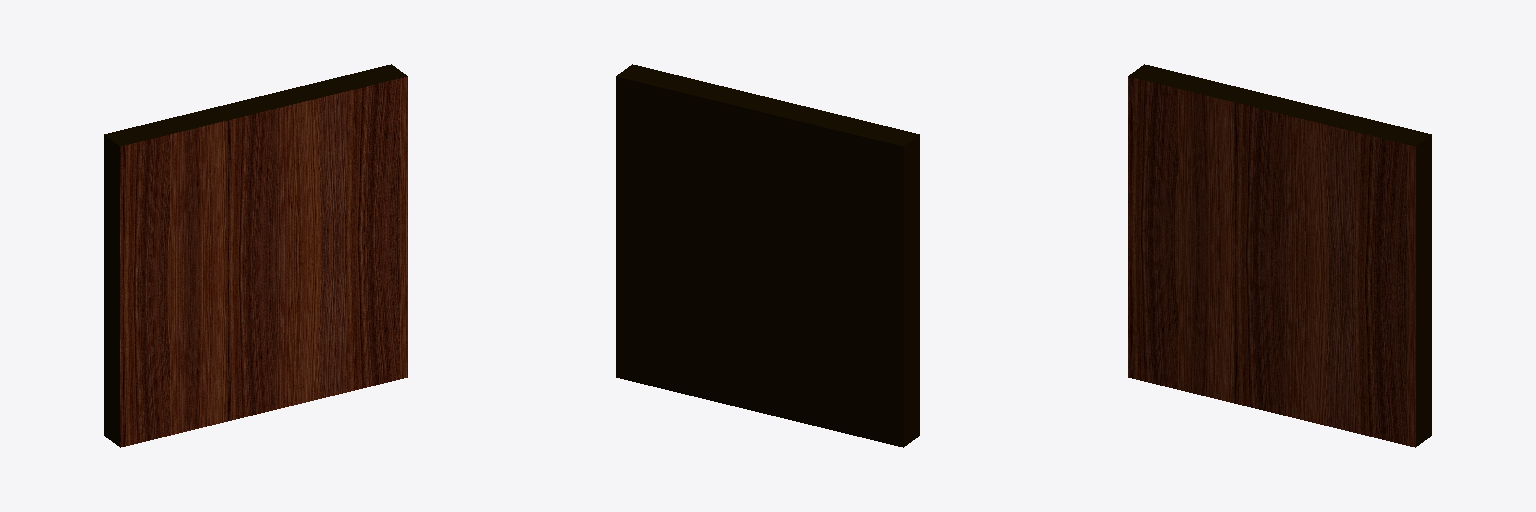
3 renders of one model, left to right at view 1: azimuth 30°, elevation 25°; view 2: azimuth 150°, elevation 25°; view 3: azimuth 330°, elevation 25°, orthographic.
Parts seen in each view (by area): view 1: frame_Cube.018; view 2: frame_Cube.018; view 3: frame_Cube.018.
Boxes of the visible parts, x1=… form: frame_Cube.018: x1=104, y1=64, x2=407, y2=447; frame_Cube.018: x1=616, y1=64, x2=919, y2=447; frame_Cube.018: x1=1128, y1=64, x2=1431, y2=447.
Size of the model in its own units: 2 by 2 by 0.2.
Materials: 2 (1 with a texture image).